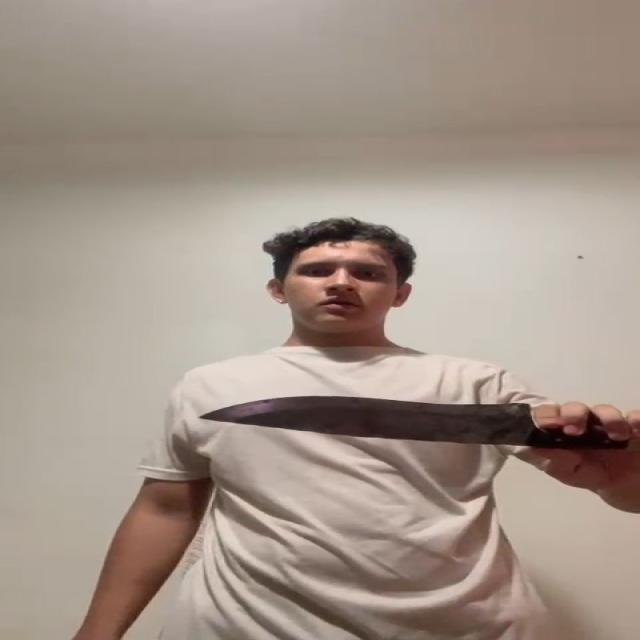knife: (198, 395, 532, 447)
